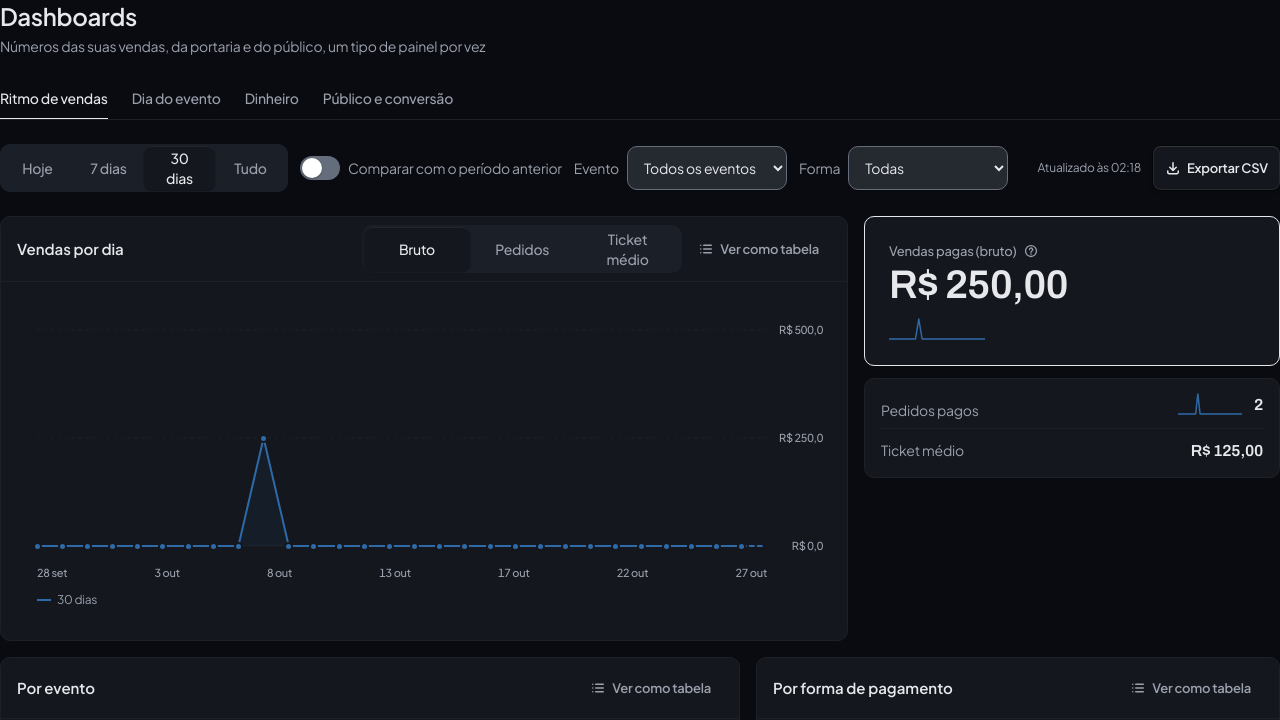
Scenario: Dashboards (Central de comando) › com venda mostra o bruto e "Ver como tabela" abre a tabela com legenda
This screenshot has width=1280, height=720.
Expected: the text "R$ 250,00" is shown, top-left (889, 263), bottom-right (1068, 306)
What coordinates should you click on to do the following:
click the button "Ver como tabela" in the row of "Vendas por dia"
I would click on:
 (759, 249)
Its box is top-left (686, 227), bottom-right (831, 271).
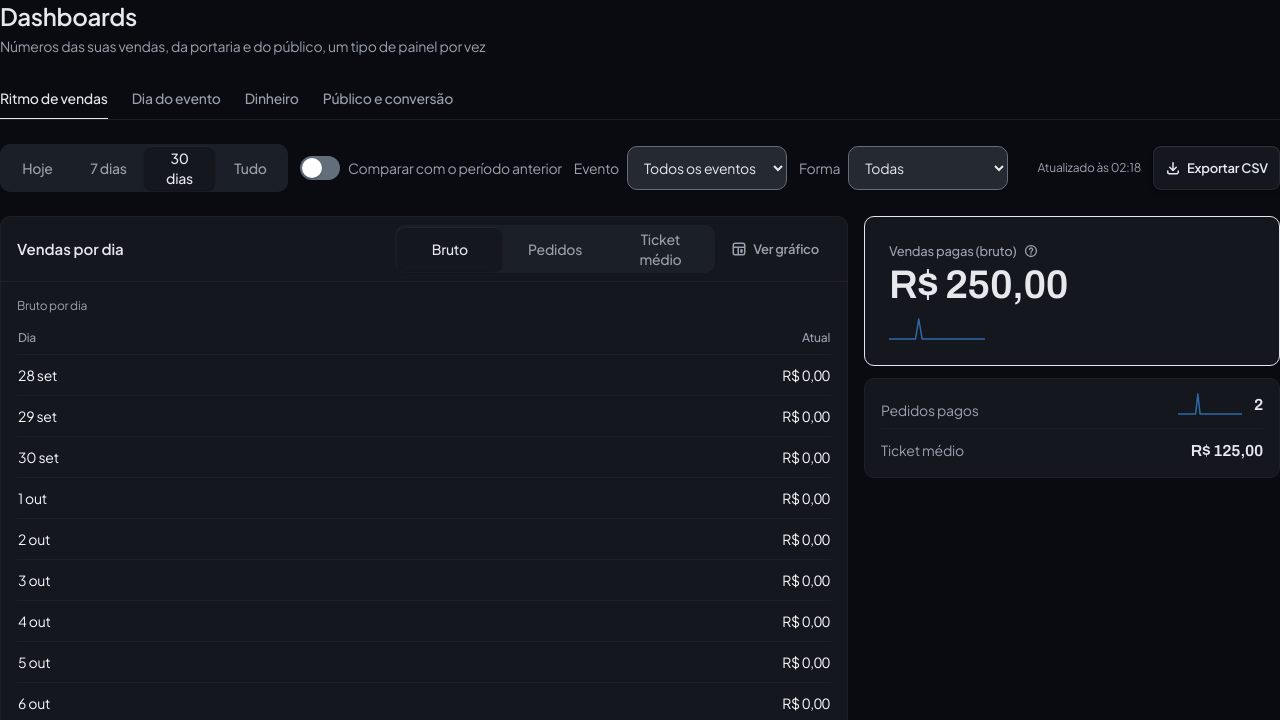
Expected: the text "Bruto por dia" is shown, top-left (17, 298), bottom-right (87, 313)
